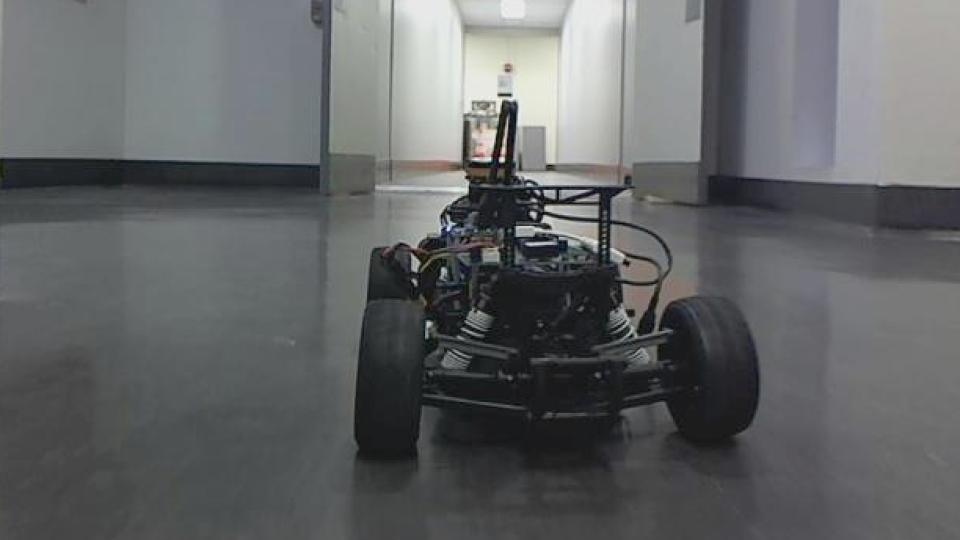car: (350, 95, 764, 462)
